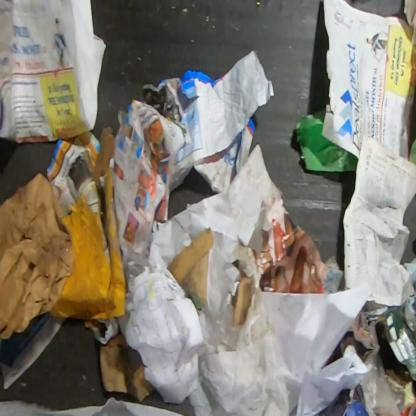cardboard: (166, 225, 215, 312), (99, 332, 156, 404), (374, 294, 415, 387), (230, 270, 256, 328)
soft_plastic: (358, 351, 405, 415)
